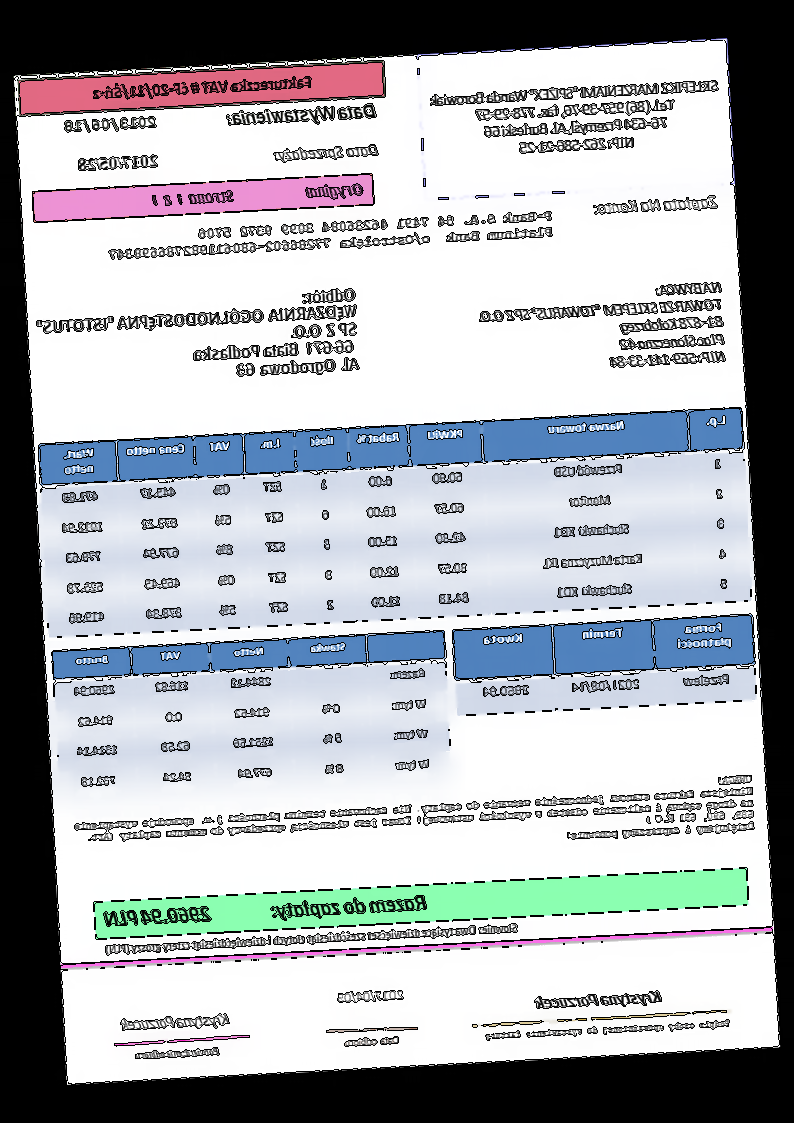Table: (37, 407, 753, 640), (49, 630, 454, 802), (452, 613, 759, 717)
TextBox: (71, 772, 758, 871), (33, 286, 361, 392), (104, 207, 556, 265), (428, 74, 724, 162), (473, 279, 729, 378), (103, 920, 520, 959), (102, 892, 430, 931), (485, 1016, 733, 1045), (90, 72, 314, 103), (147, 180, 364, 209), (224, 101, 378, 130), (532, 989, 664, 1014), (590, 194, 721, 219), (118, 1010, 232, 1035), (273, 142, 380, 165), (63, 113, 158, 137), (335, 983, 407, 1008), (77, 153, 159, 174), (132, 1045, 221, 1062), (342, 1032, 401, 1050)
